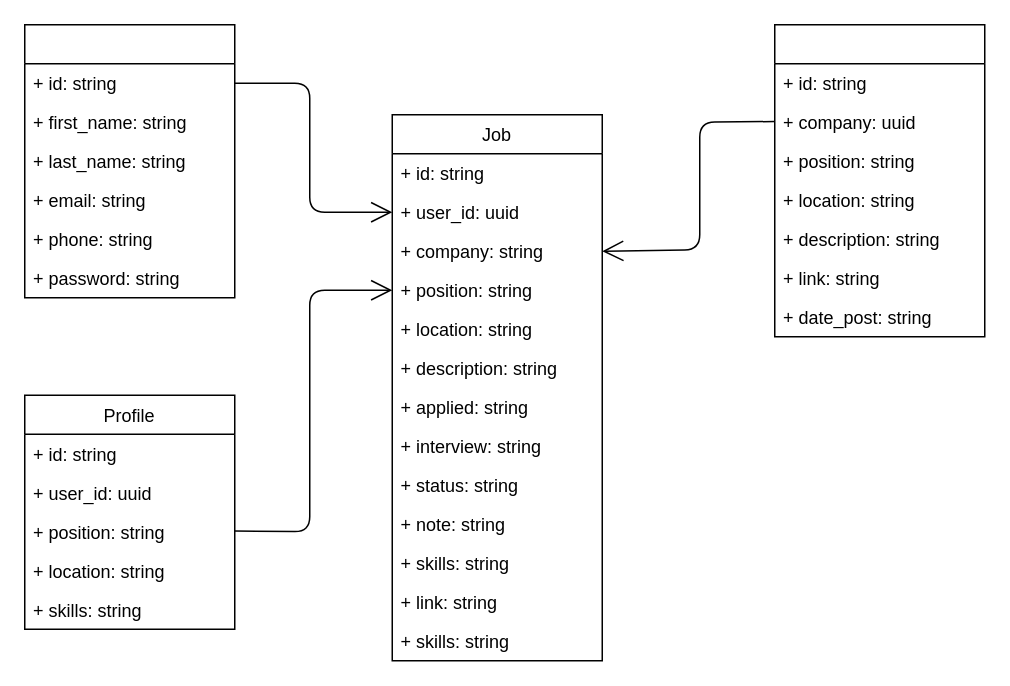
The diagram is 1010 pixels wide and 686 high, and some of its shapes have lost their labels. Here are the shapes that lost their labels. From the top down, the box of each, then its label:
(23, 23, 235, 298): User
(773, 23, 985, 337): Job_db
